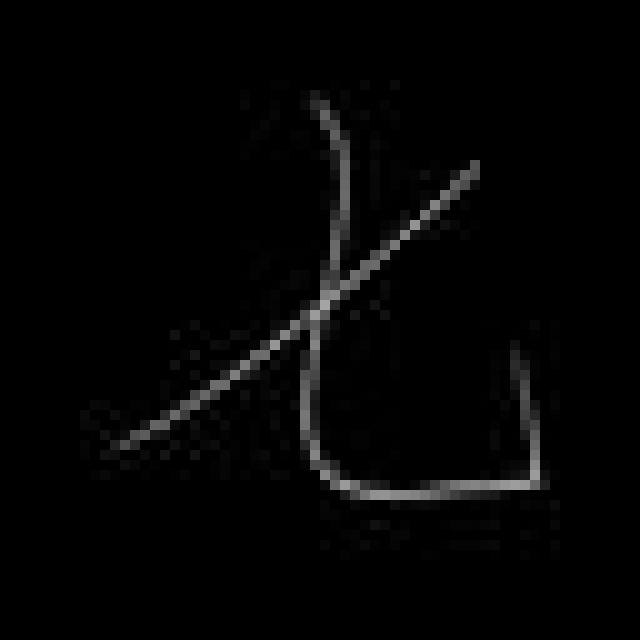7 -seven-: (102, 88, 547, 509)
